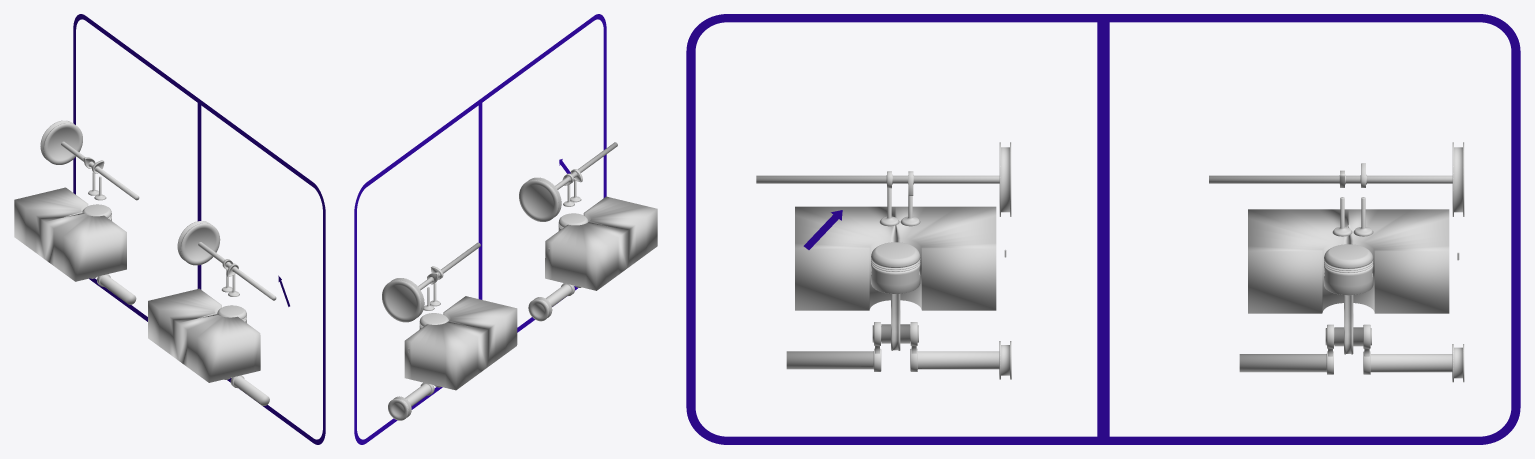
3 renders of one model, left to right at view 1: azimuth 30°, elevation 25°; view 2: azimuth 150°, elevation 25°; view 3: azimuth 270°, elevation 25°, orthographic. The views are drawn at different scales.
Visible parts, largest first — view 1: Block, Block_001, Circle, Camshaft_001, Camshaft, Crankshaft, Crankshaft_001, Piston, Piston_001; view 2: Block_001, Block, Circle, Camshaft, Camshaft_001, Crankshaft_001, Crankshaft, Piston, Piston_001; view 3: Circle, Block_001, Block, Crankshaft, Crankshaft_001, Camshaft, Camshaft_001, Piston, Piston_001.
Boxes of the visible parts, left/top/right/bottom form: Block: left=148, top=288, right=260, bottom=382; Block_001: left=14, top=187, right=126, bottom=281; Circle: left=73, top=14, right=325, bottom=444; Camshaft_001: left=40, top=120, right=139, bottom=200; Camshaft: left=177, top=221, right=276, bottom=300; Crankshaft: left=224, top=375, right=269, bottom=405; Crankshaft_001: left=90, top=274, right=136, bottom=304; Piston: left=217, top=305, right=246, bottom=322; Piston_001: left=82, top=204, right=111, bottom=220; Block_001: left=404, top=296, right=517, bottom=390; Block: left=545, top=196, right=657, bottom=290; Circle: left=354, top=14, right=606, bottom=444; Camshaft: left=519, top=142, right=617, bottom=221; Camshaft_001: left=382, top=242, right=480, bottom=322; Crankshaft_001: left=388, top=382, right=440, bottom=420; Crankshaft: left=528, top=283, right=581, bottom=321; Piston: left=558, top=213, right=588, bottom=230; Piston_001: left=419, top=313, right=448, bottom=329; Circle: left=686, top=14, right=1520, bottom=444; Block_001: left=1248, top=209, right=1449, bottom=313; Block: left=795, top=206, right=996, bottom=310; Crankshaft: left=786, top=322, right=1011, bottom=379; Crankshaft_001: left=1239, top=324, right=1464, bottom=382; Camshaft: left=756, top=142, right=1011, bottom=216; Camshaft_001: left=1209, top=142, right=1464, bottom=216; Piston: left=871, top=242, right=920, bottom=293; Piston_001: left=1324, top=244, right=1373, bottom=295.
Size of the model in its own units: 9.37 by 48.76 by 27.8.
